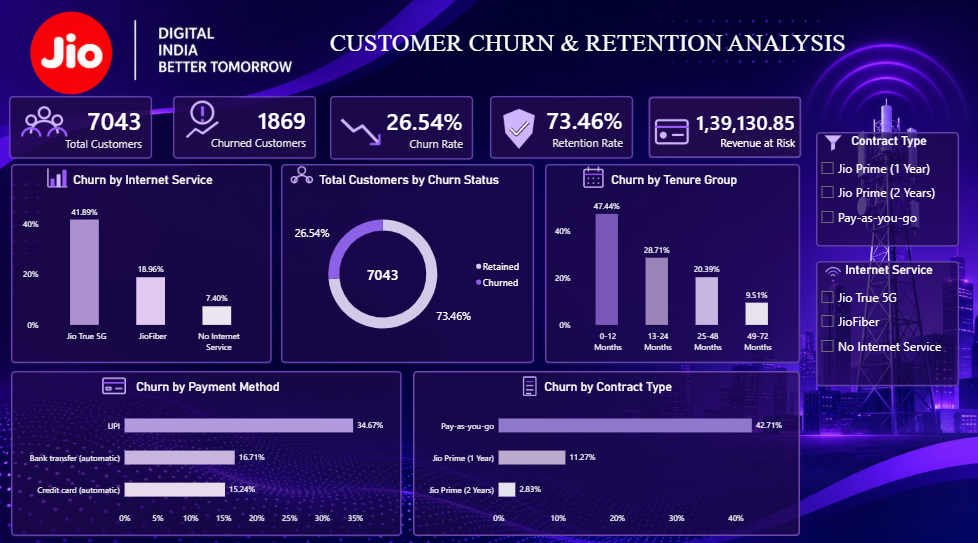

The dashboard page shown, as its layout file describes it:
{"tool":"powerbi","page":{"name":"Churn Analysis","canvas":[1920,1080],"ordinal":0},"visuals":[{"type":"clusteredColumnChart","title":"Churn by Tenure Group","fields":{"Category":["jio_churn_cleaned.Tenure Group"],"Y":["jio_churn_cleaned.Churn Rate %"]},"box":[1069.2,326.2,501.1,391],"z":0},{"type":"clusteredBarChart","title":"Churn by Contract Type","fields":{"Category":["jio_churn_cleaned.Contract"],"Y":["jio_churn_cleaned.Churn Rate %"]},"box":[810,732.2,760.3,324],"z":1000},{"type":"clusteredBarChart","title":"Churn by Payment Method","fields":{"Category":["jio_churn_cleaned.PaymentMethod"],"Y":["jio_churn_cleaned.Churn Rate %"]},"box":[21.6,732.2,766.8,324],"z":2000},{"type":"clusteredColumnChart","title":"Churn by Internet Service","fields":{"Category":["jio_churn_cleaned.InternetService"],"Y":["jio_churn_cleaned.Churn Rate %"]},"box":[21.6,326.2,511.9,391],"z":3000},{"type":"donutChart","fields":{"Category":["jio_churn_cleaned.Churn Status"],"Y":["jio_churn_cleaned.Total Customers"]},"box":[550.8,326.2,496.8,391],"z":4000},{"type":"cardVisual","fields":{"Data":["jio_churn_cleaned.Total Customers"]},"box":[17.3,192.2,280.8,123.1],"z":5000},{"type":"cardVisual","fields":{"Data":["jio_churn_cleaned.Churned Customers"]},"box":[339.1,192.2,280.8,123.1],"z":6000},{"type":"cardVisual","fields":{"Data":["jio_churn_cleaned.Churn Rate"]},"box":[648,192.2,280.8,125.3],"z":7000},{"type":"cardVisual","fields":{"Data":["jio_churn_cleaned.Retention Rate"]},"box":[961.2,192.2,280.8,123.1],"z":8000},{"type":"cardVisual","fields":{"Data":["jio_churn_cleaned.Revenue at Risk"]},"box":[1272.2,192.2,302.4,123.1],"z":9000},{"type":"slicer","title":"Contract Type","fields":{"Values":["jio_churn_cleaned.Contract"]},"box":[1602.7,263.5,280.8,224.6],"z":10000},{"type":"slicer","title":"Internet Service","fields":{"Values":["jio_churn_cleaned.InternetService"]},"box":[1602.7,516.2,280.8,246.2],"z":11000},{"type":"image","box":[41,192.2,90.7,112.3],"z":12000},{"type":"image","box":[339.1,192.2,114.5,95],"z":13000},{"type":"image","box":[619.9,213.8,175,103.7],"z":14000},{"type":"image","box":[954.7,209.5,129.6,95],"z":15000},{"type":"image","box":[1272.2,220.3,92.9,84.2],"z":16000},{"type":"image","box":[995.8,738.7,88.6,47.5],"z":17000},{"type":"image","box":[168.5,732.2,110.2,58.3],"z":18000},{"type":"image","box":[1602.7,522.7,67,41],"z":19000},{"type":"image","box":[1125.4,326.2,79.9,54],"z":20000},{"type":"image","box":[565.9,326.2,54,54],"z":21000},{"type":"image","box":[69.1,328.3,88.6,49.7],"z":22000},{"type":"image","box":[1602.7,263.5,67,41],"z":23000},{"type":"textbox","box":[648,21.6,1149.1,142.6],"z":23001}]}

Visuals, with their boxes in screenshot pixels (x1, y1, x2, y2), scaled from the page's 1920x1080 canvas onto the 978x543 screenshot:
"Churn by Tenure Group" clusteredColumnChart: x1=545, y1=164, x2=800, y2=361
"Churn by Contract Type" clusteredBarChart: x1=413, y1=368, x2=800, y2=531
"Churn by Payment Method" clusteredBarChart: x1=11, y1=368, x2=402, y2=531
"Churn by Internet Service" clusteredColumnChart: x1=11, y1=164, x2=272, y2=361
donutChart - jio_churn_cleaned.Churn Status x jio_churn_cleaned.Total Customers: x1=281, y1=164, x2=534, y2=361
cardVisual - jio_churn_cleaned.Total Customers: x1=9, y1=97, x2=152, y2=159
cardVisual - jio_churn_cleaned.Churned Customers: x1=173, y1=97, x2=316, y2=159
cardVisual - jio_churn_cleaned.Churn Rate: x1=330, y1=97, x2=473, y2=160
cardVisual - jio_churn_cleaned.Retention Rate: x1=490, y1=97, x2=633, y2=159
cardVisual - jio_churn_cleaned.Revenue at Risk: x1=648, y1=97, x2=802, y2=159
"Contract Type" slicer: x1=816, y1=132, x2=959, y2=245
"Internet Service" slicer: x1=816, y1=260, x2=959, y2=383
image: x1=21, y1=97, x2=67, y2=153
image: x1=173, y1=97, x2=231, y2=144
image: x1=316, y1=107, x2=405, y2=160
image: x1=486, y1=105, x2=552, y2=153
image: x1=648, y1=111, x2=695, y2=153
image: x1=507, y1=371, x2=552, y2=395
image: x1=86, y1=368, x2=142, y2=397
image: x1=816, y1=263, x2=851, y2=283
image: x1=573, y1=164, x2=614, y2=191
image: x1=288, y1=164, x2=316, y2=191
image: x1=35, y1=165, x2=80, y2=190
image: x1=816, y1=132, x2=851, y2=153
textbox: x1=330, y1=11, x2=915, y2=83
